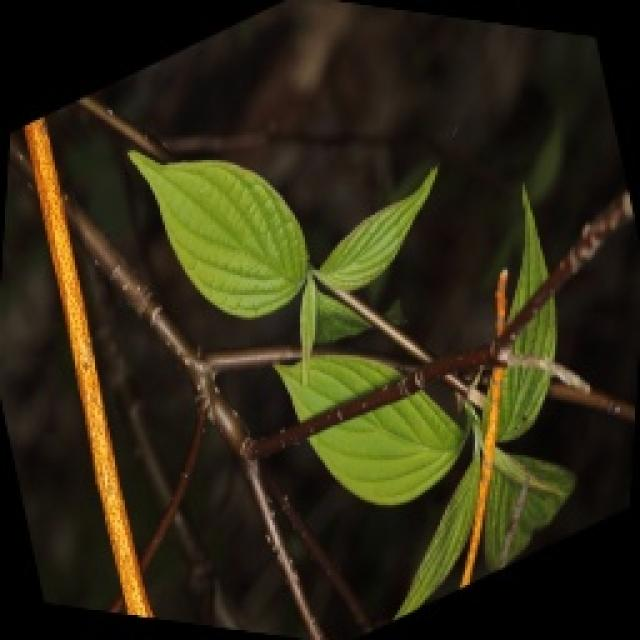Golden_canker: (4, 93, 185, 632), (460, 275, 540, 640)
